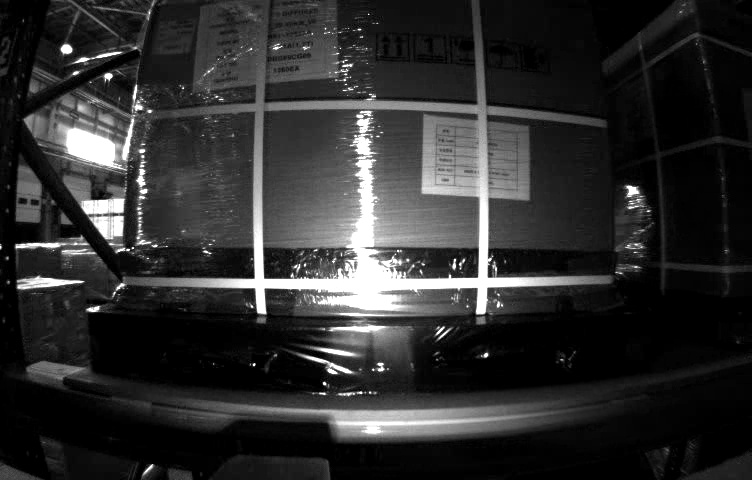True Barcode: (156, 19, 195, 52)
